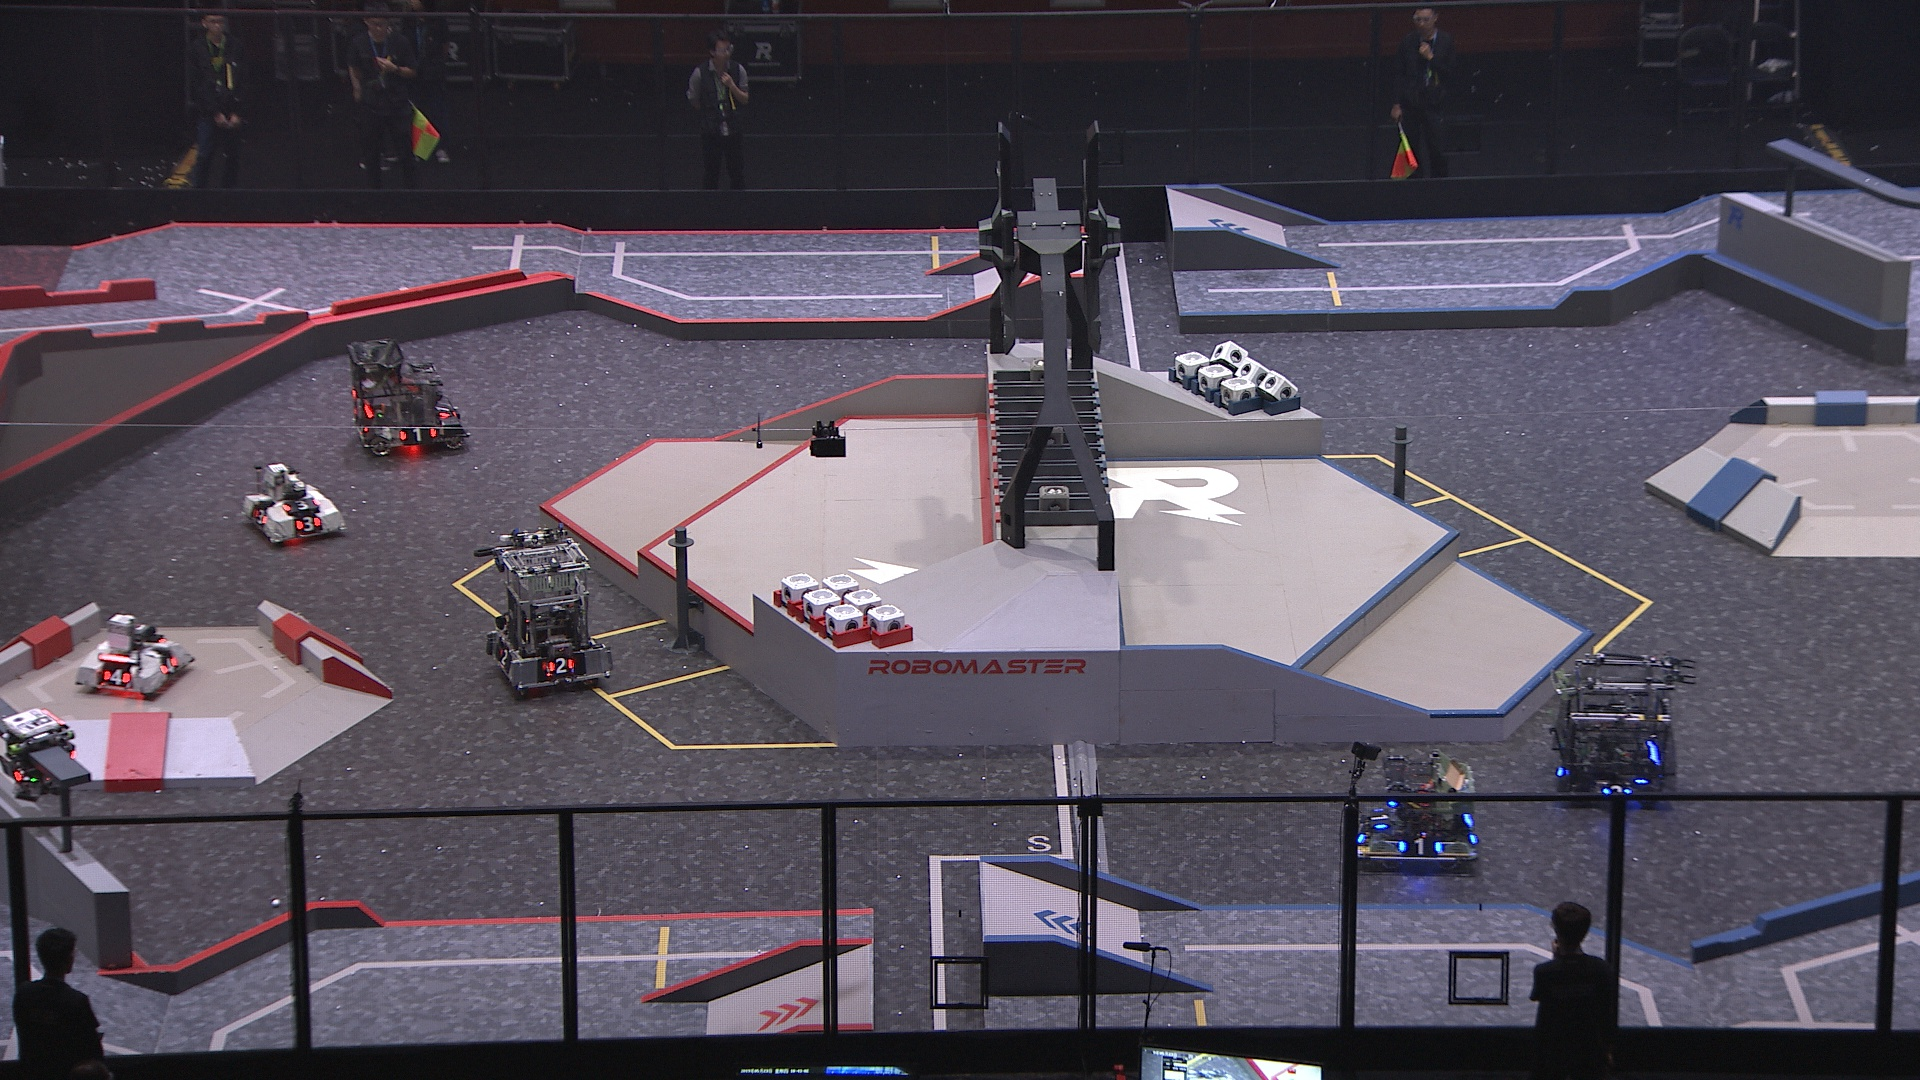armor: (1393, 833, 1443, 860), (278, 495, 320, 516), (291, 510, 323, 538), (398, 423, 436, 446), (1365, 803, 1393, 833), (546, 655, 578, 678), (100, 666, 131, 688), (1602, 783, 1633, 803), (160, 651, 179, 676), (434, 401, 456, 422), (493, 646, 513, 669), (249, 505, 269, 527)
car: (483, 529, 613, 698), (1548, 646, 1679, 811), (1348, 742, 1486, 870), (347, 342, 465, 460), (69, 612, 196, 700), (237, 458, 343, 550)
